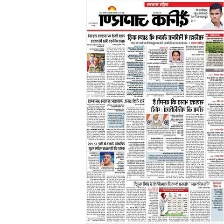news_paper: (84, 0, 223, 222)
